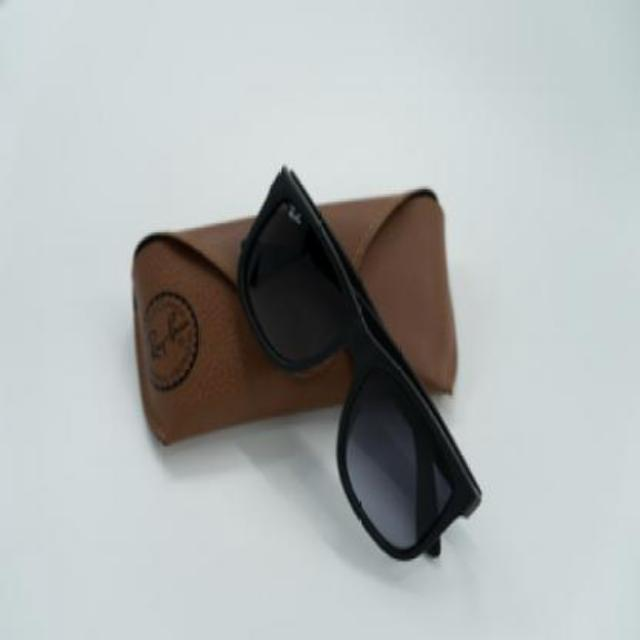sunglasses: (235, 165, 482, 560)
